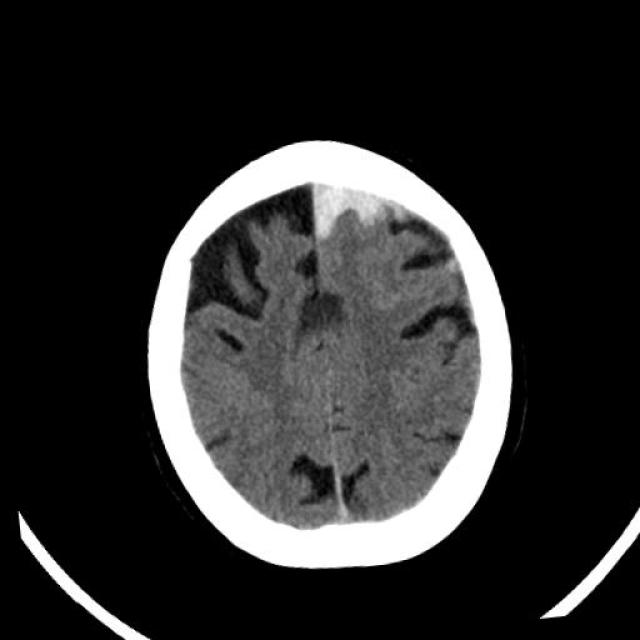Subdural: (304, 150, 446, 285)
